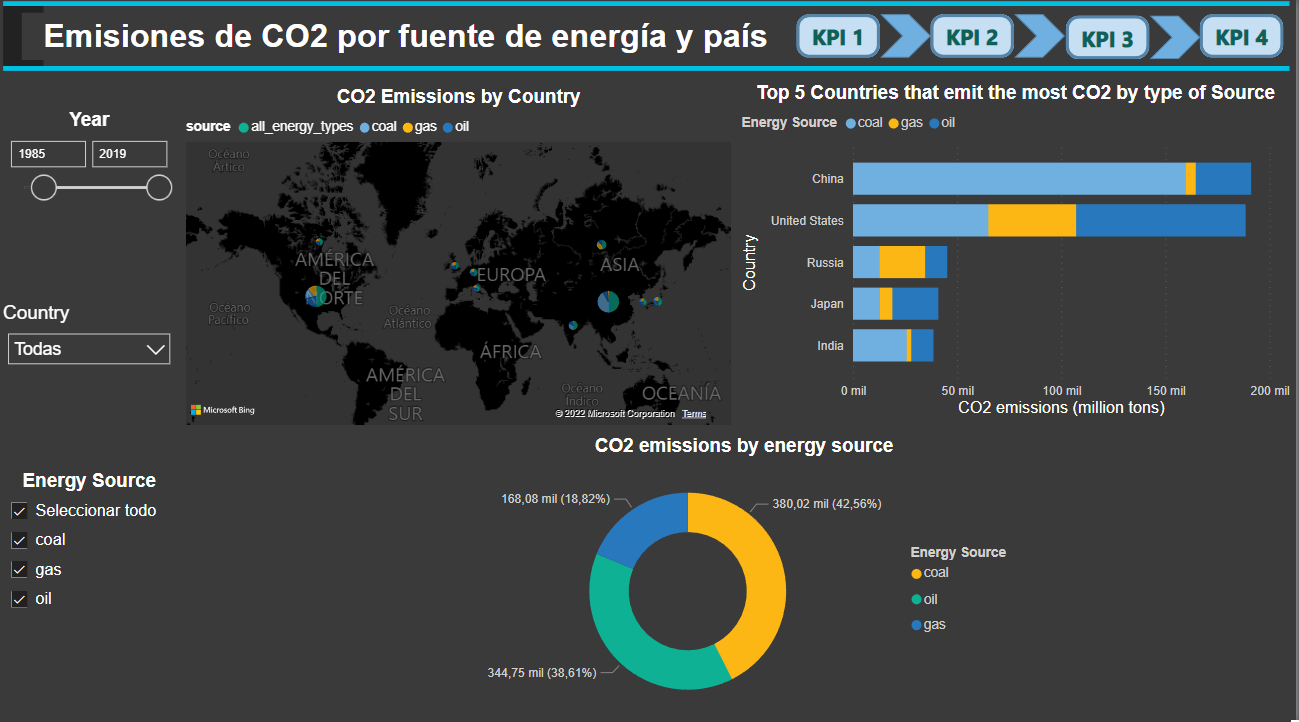

The page's visual inventory and layout, read from the dashboard file:
{"tool":"powerbi","page":{"name":"OBJ2-2","canvas":[1280,720],"ordinal":2},"visuals":[{"type":"image","box":[0,0,1278.9,78.5],"z":0},{"type":"donutChart","title":"CO2 emissions by energy source","fields":{"Category":["source_energy.source"],"Y":["Sum(emission.co2emissions)"]},"box":[455.7,432.3,560.3,287.7],"z":1000},{"type":"barChart","title":" Top 5 Countries that emit the most CO2 by type of Source","fields":{"Category":["country.country"],"Y":["Sum(emission.co2emissions)"],"Series":["source_energy.source"]},"box":[728.3,84,550.7,335.9],"z":2000},{"type":"map","title":"CO2 Emissions by Country","fields":{"Category":["country.country"],"Size":["Sum(emission.co2emissions)"],"Series":["source_energy.source"]},"box":[180.3,88.1,547.9,340],"z":3000},{"type":"slicer","title":"Year","fields":{"Values":["emission.year"]},"box":[0,111.3,180.1,101.5],"z":4000},{"type":"textbox","box":[23.5,16.5,757.2,46.8],"z":5000},{"type":"slicer","title":"Energy Source","fields":{"Values":["source_energy.source"]},"box":[0,466.5,180.1,217.7],"z":6000},{"type":"slicer","title":"Country","fields":{"Values":["country.country"]},"box":[0,301.2,180.1,72],"z":7000},{"type":"shape","title":"1","box":[787.1,18.5,82.5,43.3],"z":8000},{"type":"shape","box":[869.6,18.5,50.3,43.3],"z":9000},{"type":"shape","box":[1002.4,18.5,50.3,43.3],"z":10000},{"type":"shape","box":[1135.2,19.9,50.3,43.3],"z":11000},{"type":"shape","title":"1","box":[919.9,18.5,82.5,43.3],"z":12000},{"type":"shape","title":"1","box":[1052.7,19.2,82.5,43.3],"z":13000},{"type":"shape","title":"1","box":[1185.5,18.5,82.5,43.3],"z":14000},{"type":"actionButton","box":[787.1,19.2,82.5,44.7],"z":15000},{"type":"actionButton","box":[919.9,17.8,82.5,44.7],"z":16000},{"type":"actionButton","box":[1052.7,17.8,82.5,44.7],"z":17000},{"type":"actionButton","box":[1185.6,17.8,82.5,44.7],"z":18000}]}

Visuals, with their boxes in screenshot pixels (x1, y1, x2, y2), scaled from the page's 1280x720 canvas onto the 1299x722 screenshot:
image: box(0, 0, 1298, 79)
"CO2 emissions by energy source" donutChart: box(462, 434, 1031, 721)
" Top 5 Countries that emit the most CO2 by type of Source" barChart: box(739, 84, 1298, 421)
"CO2 Emissions by Country" map: box(183, 88, 739, 429)
"Year" slicer: box(0, 112, 183, 213)
textbox: box(24, 17, 792, 63)
"Energy Source" slicer: box(0, 468, 183, 686)
"Country" slicer: box(0, 302, 183, 374)
"1" shape: box(799, 19, 883, 62)
shape: box(883, 19, 934, 62)
shape: box(1017, 19, 1068, 62)
shape: box(1152, 20, 1203, 63)
"1" shape: box(934, 19, 1017, 62)
"1" shape: box(1068, 19, 1152, 63)
"1" shape: box(1203, 19, 1287, 62)
actionButton: box(799, 19, 883, 64)
actionButton: box(934, 18, 1017, 63)
actionButton: box(1068, 18, 1152, 63)
actionButton: box(1203, 18, 1287, 63)
